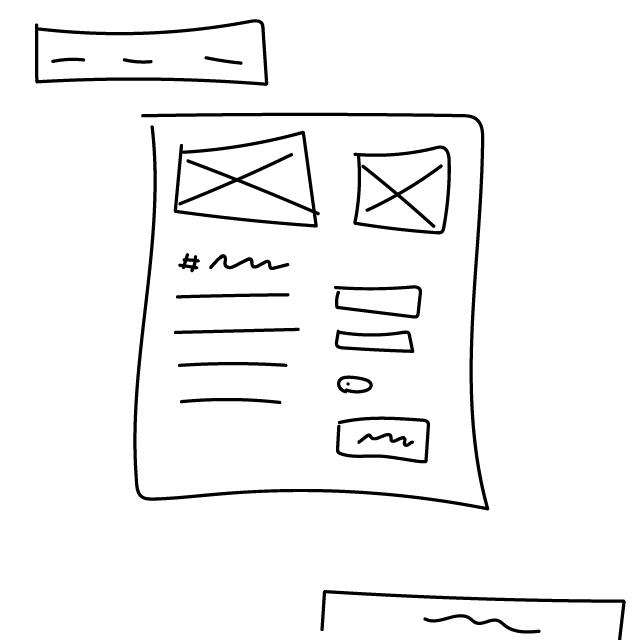button: (332, 413, 437, 466)
checkbox: (335, 376, 377, 396)
container: (121, 101, 518, 532)
footer: (307, 575, 640, 640)
frame: (172, 131, 324, 233), (352, 144, 457, 243)
heading: (178, 248, 296, 281)
input: (330, 284, 428, 323), (332, 330, 425, 359)
nav: (28, 17, 274, 88)
text: (170, 290, 309, 422)
